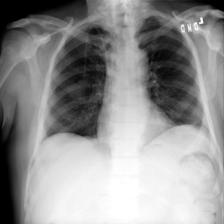normal: (37, 7, 217, 154)
